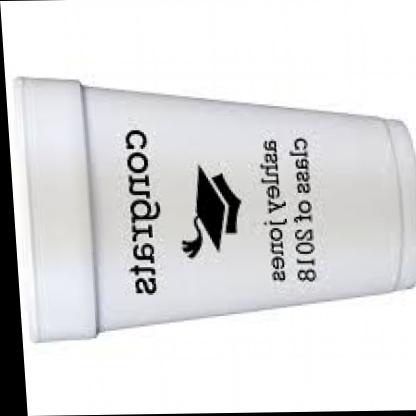trash: (13, 78, 415, 340)
